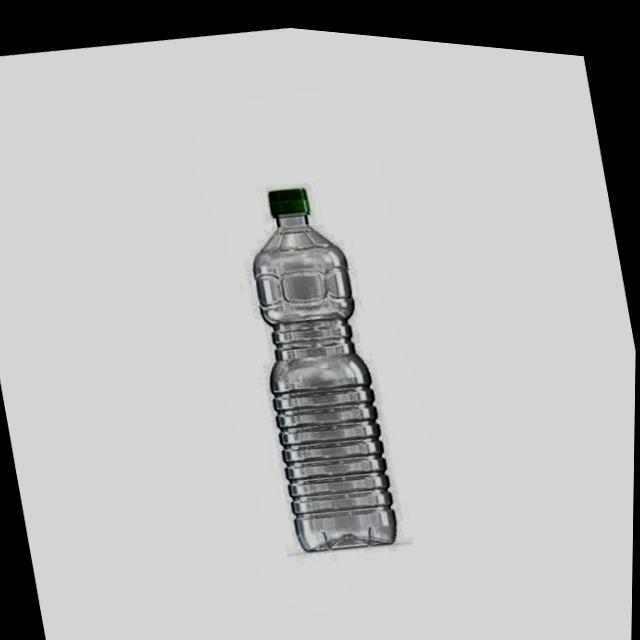Bottles: (210, 144, 437, 623)
